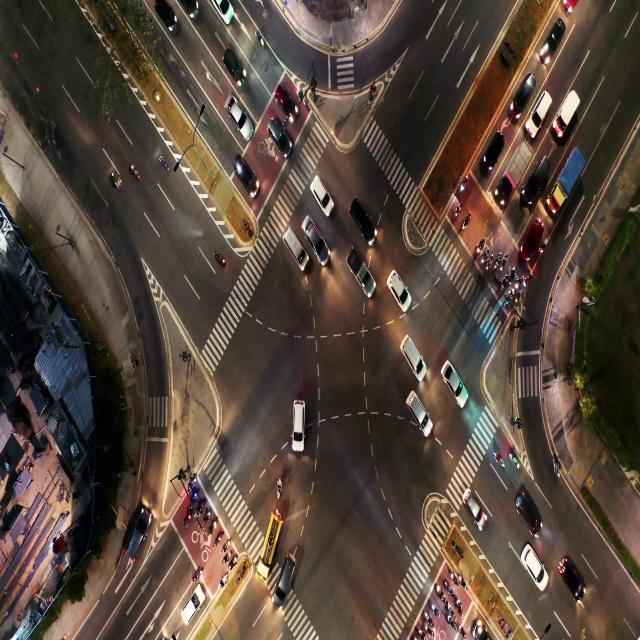bus: (264, 532, 274, 546)
car: (128, 521, 144, 553), (391, 277, 407, 304), (446, 366, 460, 393), (409, 396, 423, 422), (160, 2, 174, 24), (356, 205, 366, 233), (468, 500, 482, 520), (528, 557, 542, 577), (533, 163, 543, 190), (225, 50, 238, 70), (280, 565, 290, 591), (219, 1, 231, 22), (292, 409, 304, 430), (550, 26, 560, 48), (275, 126, 287, 144), (286, 233, 297, 252), (405, 339, 414, 360), (308, 226, 318, 244), (519, 84, 529, 102), (523, 495, 531, 516), (240, 162, 249, 180), (315, 180, 324, 198), (232, 104, 242, 120), (187, 598, 195, 616), (566, 566, 575, 581), (183, 2, 194, 14), (280, 88, 288, 103), (529, 229, 535, 249), (490, 140, 497, 156), (537, 104, 543, 118)
motorcycle: (552, 459, 561, 478), (510, 453, 520, 470), (194, 561, 203, 579), (256, 34, 266, 48), (298, 94, 308, 108), (494, 452, 502, 468), (523, 273, 530, 289), (158, 155, 168, 166), (276, 480, 282, 498), (461, 175, 467, 192), (113, 172, 119, 188), (132, 163, 138, 178), (509, 270, 514, 286), (430, 601, 436, 613), (416, 626, 423, 636), (217, 252, 223, 263), (219, 577, 225, 586), (184, 516, 189, 526), (476, 242, 481, 252), (461, 578, 466, 588), (456, 598, 461, 608), (436, 584, 441, 594), (224, 541, 230, 549), (514, 296, 520, 304), (540, 244, 544, 255), (446, 582, 450, 593), (189, 481, 194, 489), (198, 504, 202, 514), (230, 559, 235, 567), (454, 206, 458, 216), (424, 612, 428, 622), (191, 495, 197, 501), (458, 624, 462, 633), (509, 293, 514, 300), (210, 524, 214, 532), (448, 616, 452, 624), (502, 280, 505, 290), (464, 221, 468, 228), (514, 282, 518, 289), (451, 571, 454, 580), (205, 514, 208, 522), (448, 604, 452, 610), (425, 625, 429, 631), (216, 536, 219, 543), (500, 264, 503, 271), (481, 258, 484, 264), (486, 263, 489, 269), (494, 262, 497, 268), (224, 556, 226, 562)
truck: (355, 257, 365, 283), (561, 172, 575, 190), (508, 161, 517, 186), (564, 105, 571, 122)
